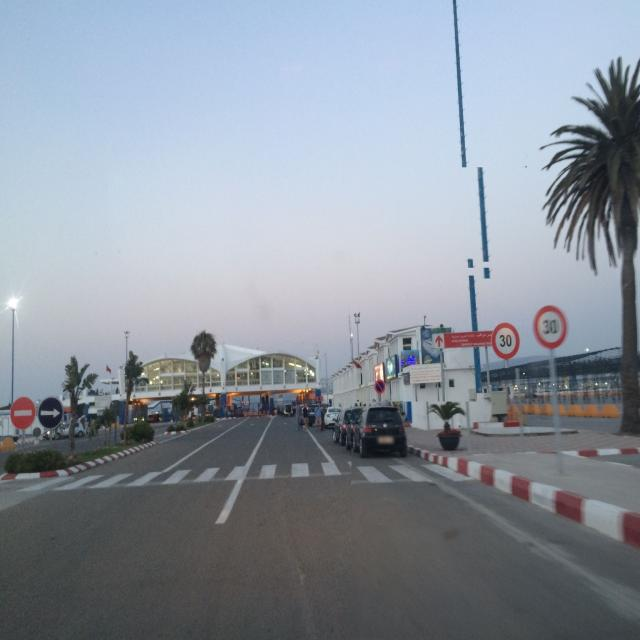forb_stopping: (375, 381, 384, 392)
